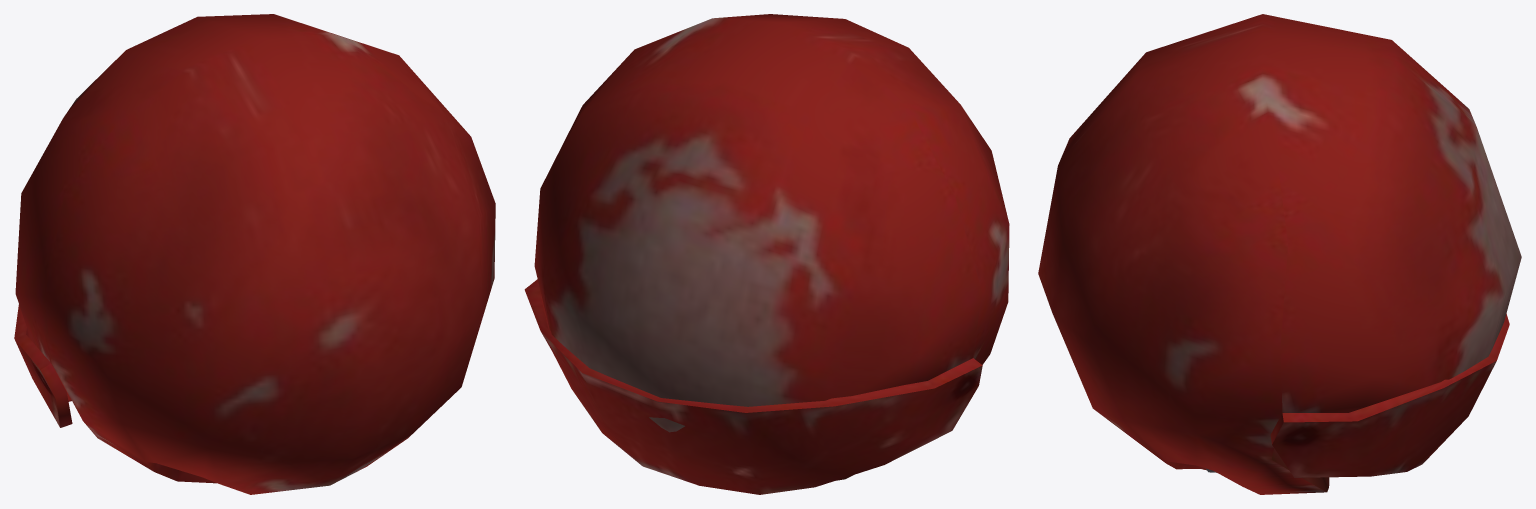
Rendered from murphy_06.obj.
3 renders of one model, left to right at view 1: azimuth 30°, elevation 25°; view 2: azimuth 150°, elevation 25°; view 3: azimuth 270°, elevation 25°, orthographic.
Visible parts, largest first — view 1: Object01, Object02; view 2: Object01, Object02; view 3: Object01, Object02.
Boxes of the visible parts, x1,y1,x2,y2 form: Object01: (15,14,495,494); Object02: (14,304,72,427); Object01: (534,14,1009,480); Object02: (524,279,982,494); Object01: (1038,14,1521,494); Object02: (1270,313,1509,477).
Bounding box in the file's own units: 20.08 × 19.62 × 19.83.
1 material, 1 textured.
